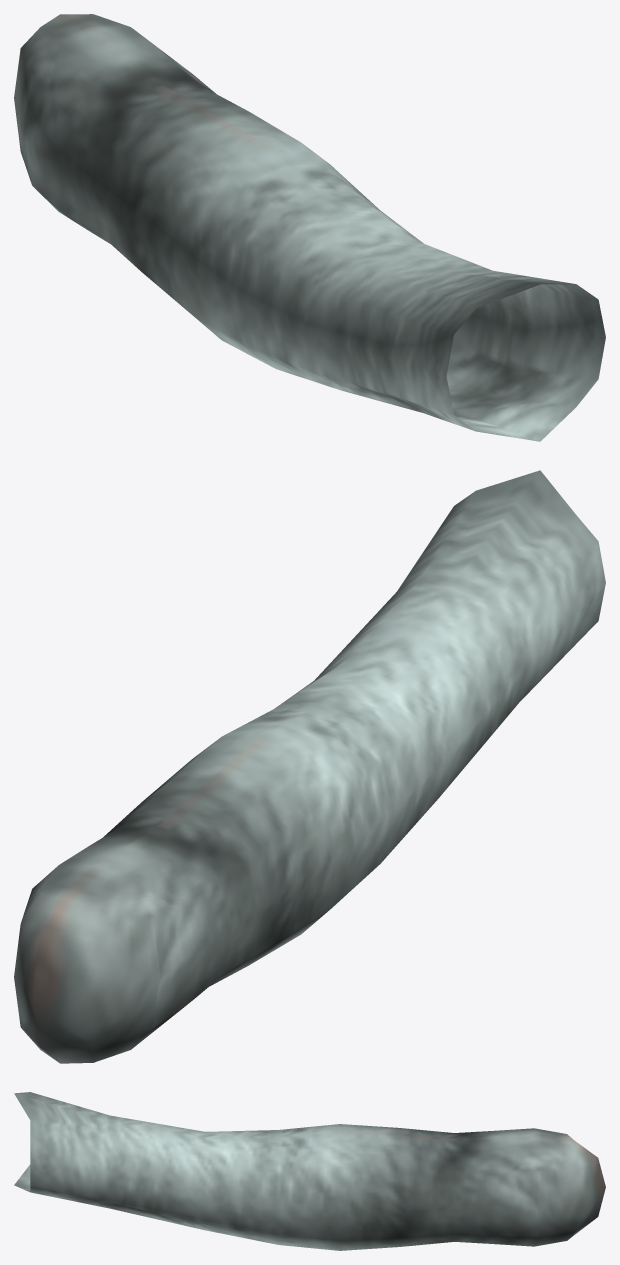
Rendered from Lcola.obj.
The picture shows the model from 3 angles, top to bottom: view 1: azimuth 30°, elevation 25°; view 2: azimuth 150°, elevation 25°; view 3: azimuth 270°, elevation 25°; orthographic projection. The views are drawn at different scales.
Parts seen in each view (by area): view 1: Cube.001; view 2: Cube.001; view 3: Cube.001.
Part boxes in pixels (left/top/right/bottom): Cube.001: left=14, top=14, right=605, bottom=441; Cube.001: left=14, top=470, right=605, bottom=1063; Cube.001: left=14, top=1092, right=605, bottom=1250.
Bounding box in the file's own units: 0.1064 × 0.1661 × 0.5857.
1 material, 1 textured.
